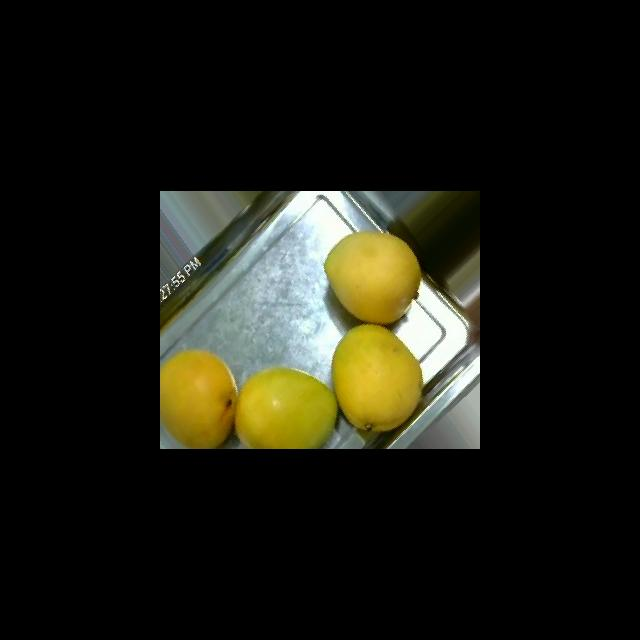mango: (331, 323, 423, 432), (323, 230, 421, 324), (234, 366, 338, 448), (160, 348, 238, 448)
